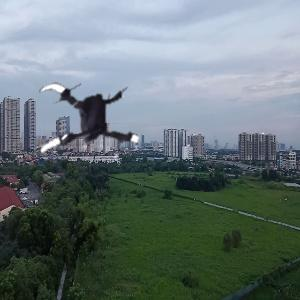drone: (30, 60, 155, 185)
